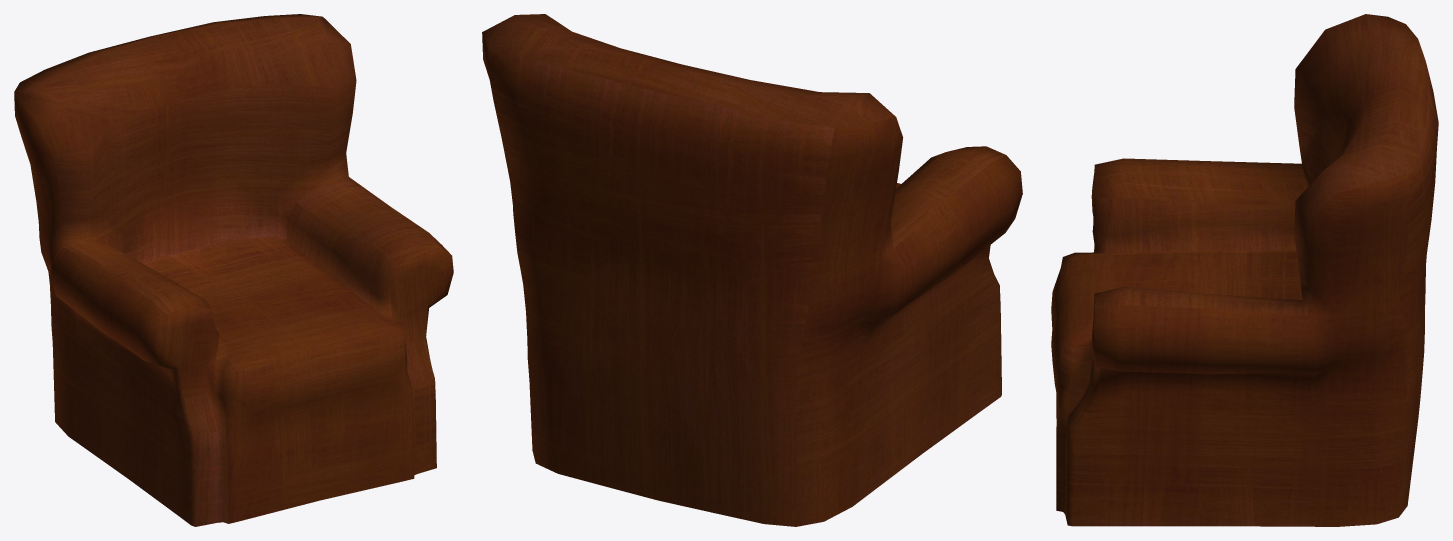
File: armchair1.fbx
3 views of the same model, side by side, from view 1: azimuth 30°, elevation 25°; view 2: azimuth 150°, elevation 25°; view 3: azimuth 270°, elevation 25° (orthographic). The views are drawn at different scales.
Parts seen in each view (by area): view 1: Armchair; view 2: Armchair; view 3: Armchair.
Part boxes in pixels (x1,y1,x2,y2): Armchair: (14,14,453,526); Armchair: (482,14,1022,526); Armchair: (1051,14,1438,526).
Size of the model in its own units: 138 by 144 by 133.
1 material, 1 textured.
